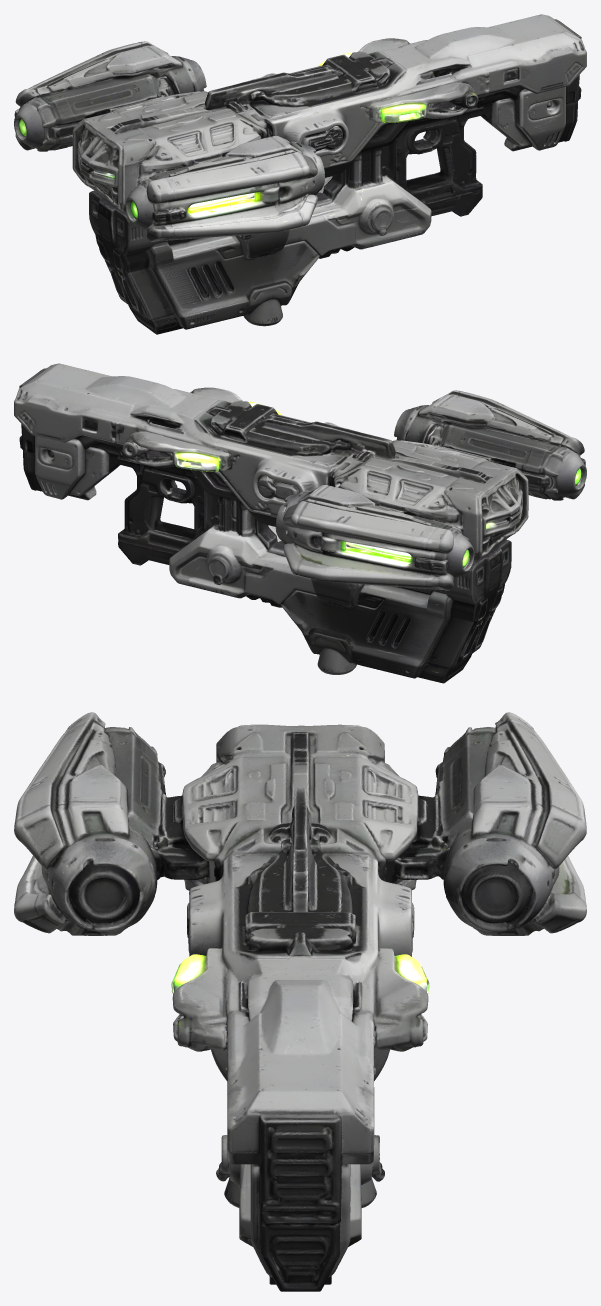
File: bfg.glb
3 views of the same model, one above another, from view 1: azimuth 30°, elevation 25°; view 2: azimuth 150°, elevation 25°; view 3: azimuth 270°, elevation 25° (orthographic). The views are drawn at different scales.
Size of the model in its own units: 1.9 by 0.8306 by 1.14.
1 material, 1 textured.
